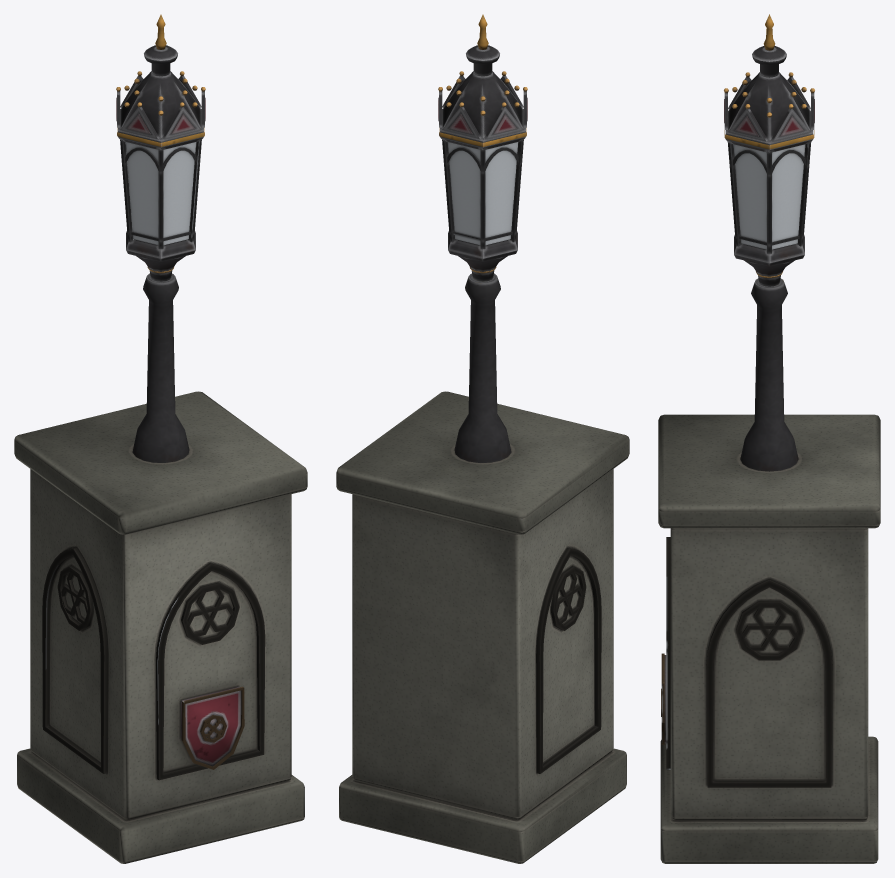
File: EntranceNewelLantern.fbx
3 views of the same model, side by side, from view 1: azimuth 30°, elevation 25°; view 2: azimuth 150°, elevation 25°; view 3: azimuth 270°, elevation 25° (orthographic).
Parts seen in each view (by area): view 1: EntranceNewelLantern_Main, EntranceNewelLantern_Glass; view 2: EntranceNewelLantern_Main, EntranceNewelLantern_Glass; view 3: EntranceNewelLantern_Main, EntranceNewelLantern_Glass.
Part boxes in pixels (x1,y1,x2,y2): EntranceNewelLantern_Main: [14, 14, 307, 863]; EntranceNewelLantern_Glass: [125, 142, 196, 245]; EntranceNewelLantern_Main: [336, 14, 629, 863]; EntranceNewelLantern_Glass: [447, 142, 518, 245]; EntranceNewelLantern_Main: [658, 14, 880, 863]; EntranceNewelLantern_Glass: [733, 144, 805, 249].
Size of the model in its own units: 180 by 719 by 180.
